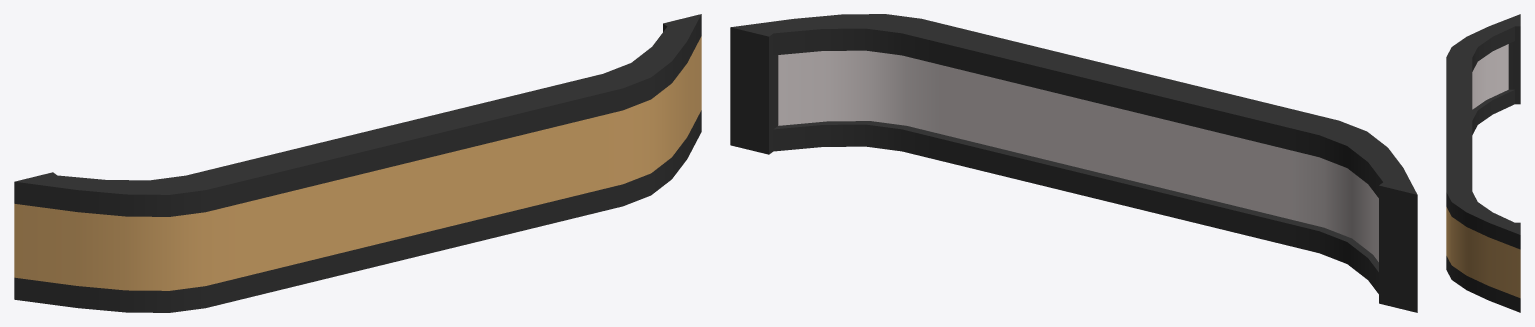
File: LightWall4.fbx
3 views of the same model, side by side, from view 1: azimuth 30°, elevation 25°; view 2: azimuth 150°, elevation 25°; view 3: azimuth 270°, elevation 25° (orthographic). The views are drawn at different scales.
Visible parts, largest first — view 1: LightWall4; view 2: LightWall4; view 3: LightWall4.
Boxes of the visible parts, x1,y1,x2,y2 form: LightWall4: (14,14,701,312); LightWall4: (730,14,1417,312); LightWall4: (1446,14,1520,312).
Size of the model in its own units: 128 by 21.09 by 18.3.
